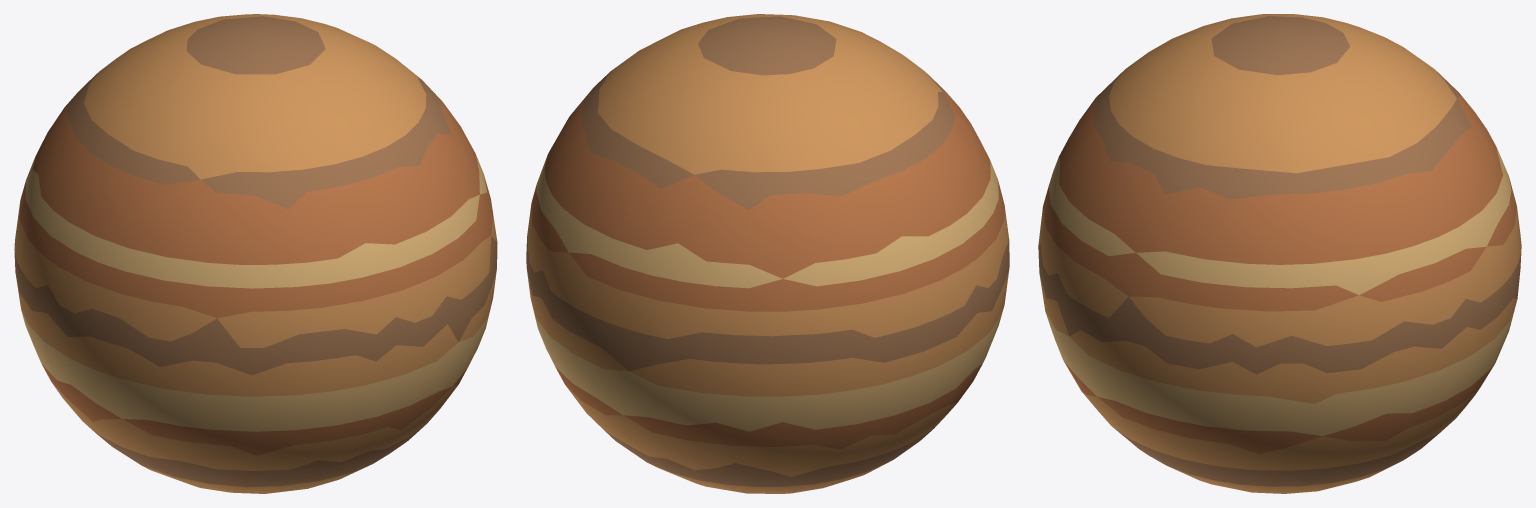
Rendered from PlanetB.glb.
3 views of the same model, side by side, from view 1: azimuth 30°, elevation 25°; view 2: azimuth 150°, elevation 25°; view 3: azimuth 270°, elevation 25° (orthographic).
Parts seen in each view (by area): view 1: Planet_6; view 2: Planet_6; view 3: Planet_6.
Part boxes in pixels (x1=…): Planet_6: x1=14, y1=14, x2=497, y2=493; Planet_6: x1=526, y1=14, x2=1009, y2=493; Planet_6: x1=1038, y1=14, x2=1521, y2=493.
Bounding box in the file's own units: 3.76 × 3.75 × 3.76.
1 material, 1 textured.
